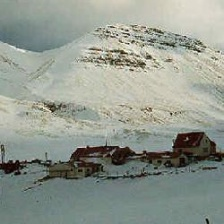neutral: (1, 4, 224, 221)
